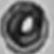correct: (0, 0, 51, 54)
